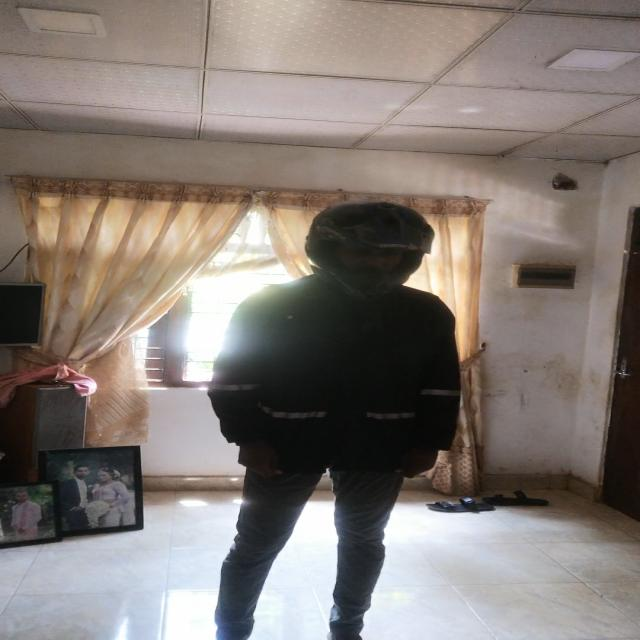Helmet_Wearer: (277, 204, 447, 309)
Jacket_Wearer: (205, 273, 465, 491)
Person: (204, 200, 466, 640)
